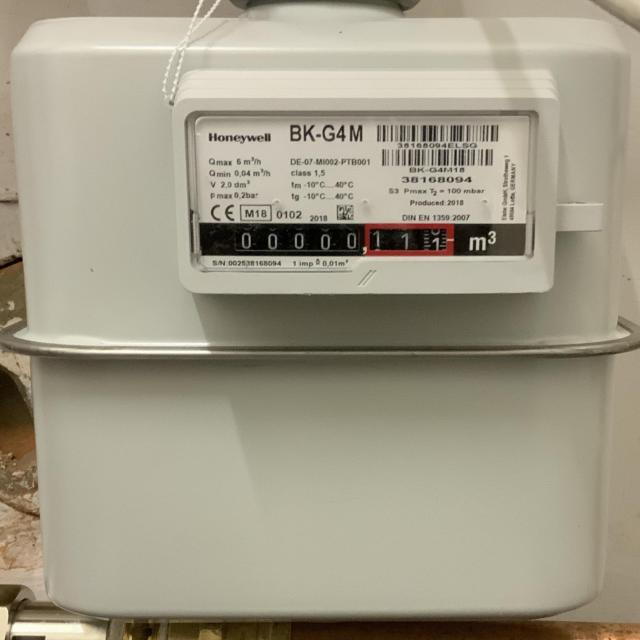gaz_meter: (187, 105, 534, 263)
indication: (222, 222, 455, 255)
